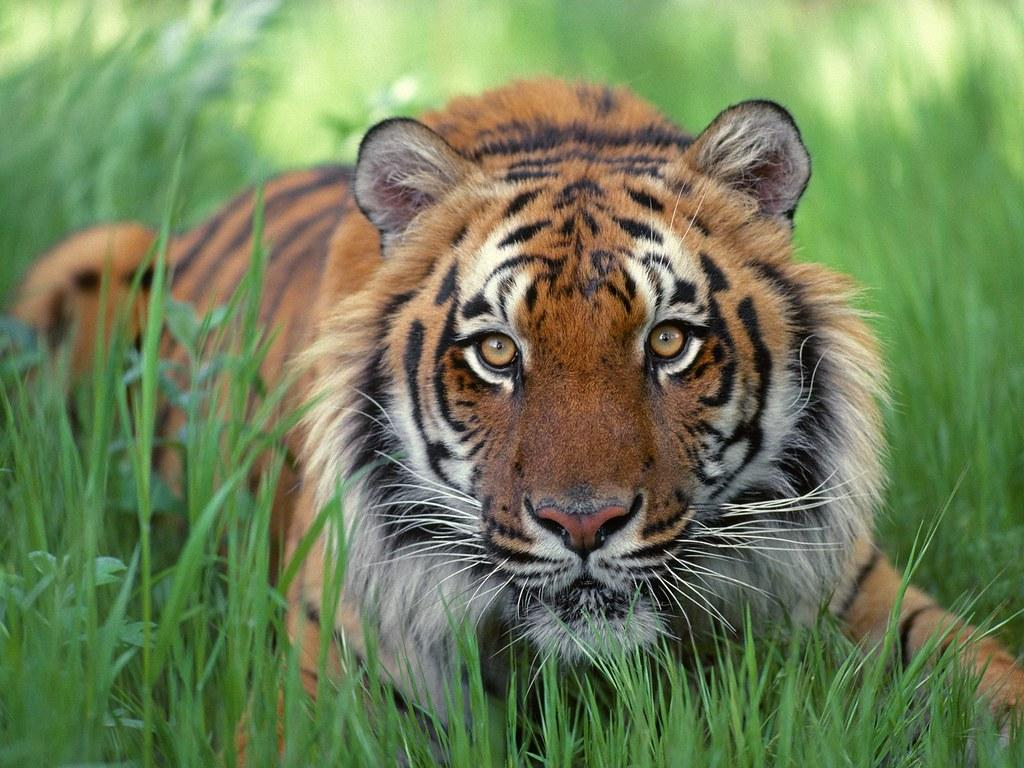tiger: (6, 74, 1022, 765)
